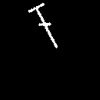double_crochet: (29, 3, 56, 47)
